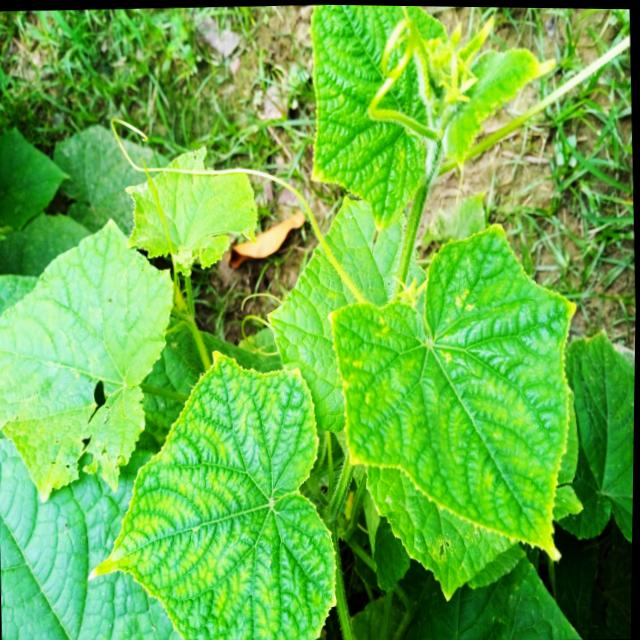Fresh-Leaf: (329, 220, 578, 567), (93, 349, 336, 640), (308, 5, 447, 230)
